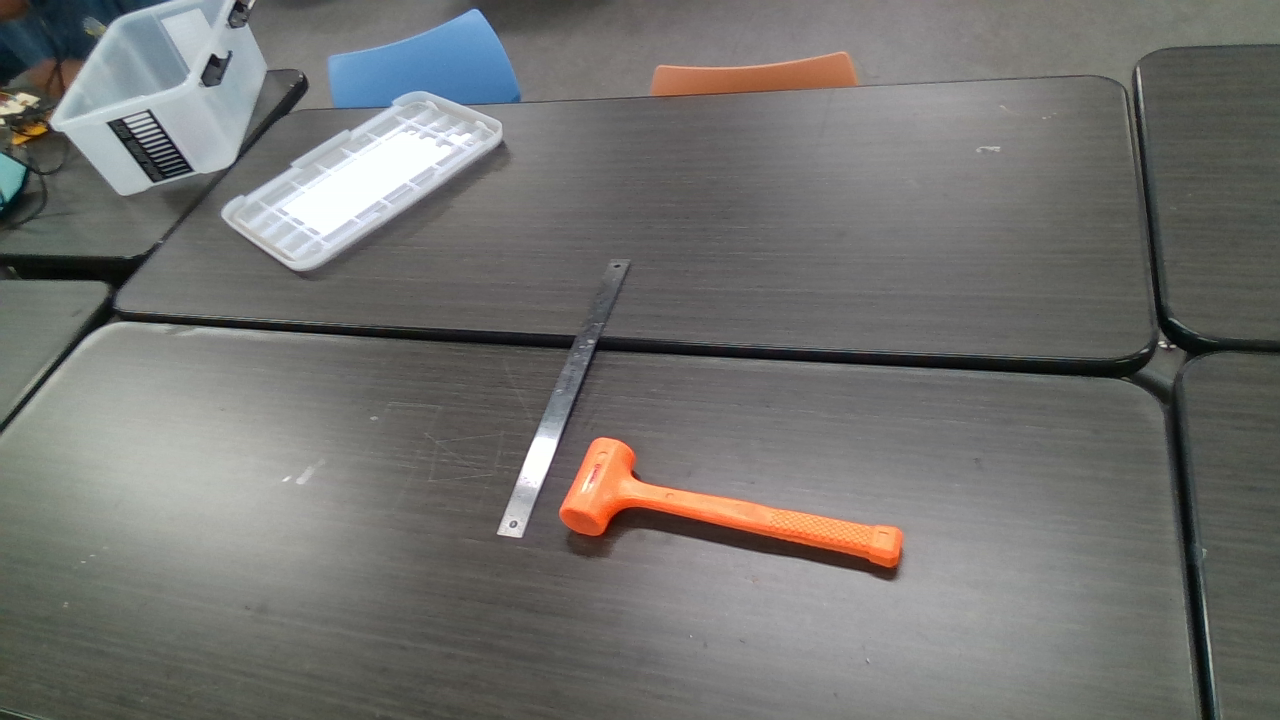Orange Hammer: (561, 439, 902, 569)
